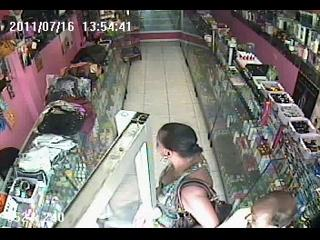Normal: (130, 122, 220, 228), (175, 179, 232, 225)
